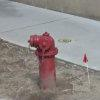Hydrant: (26, 21, 70, 85)
